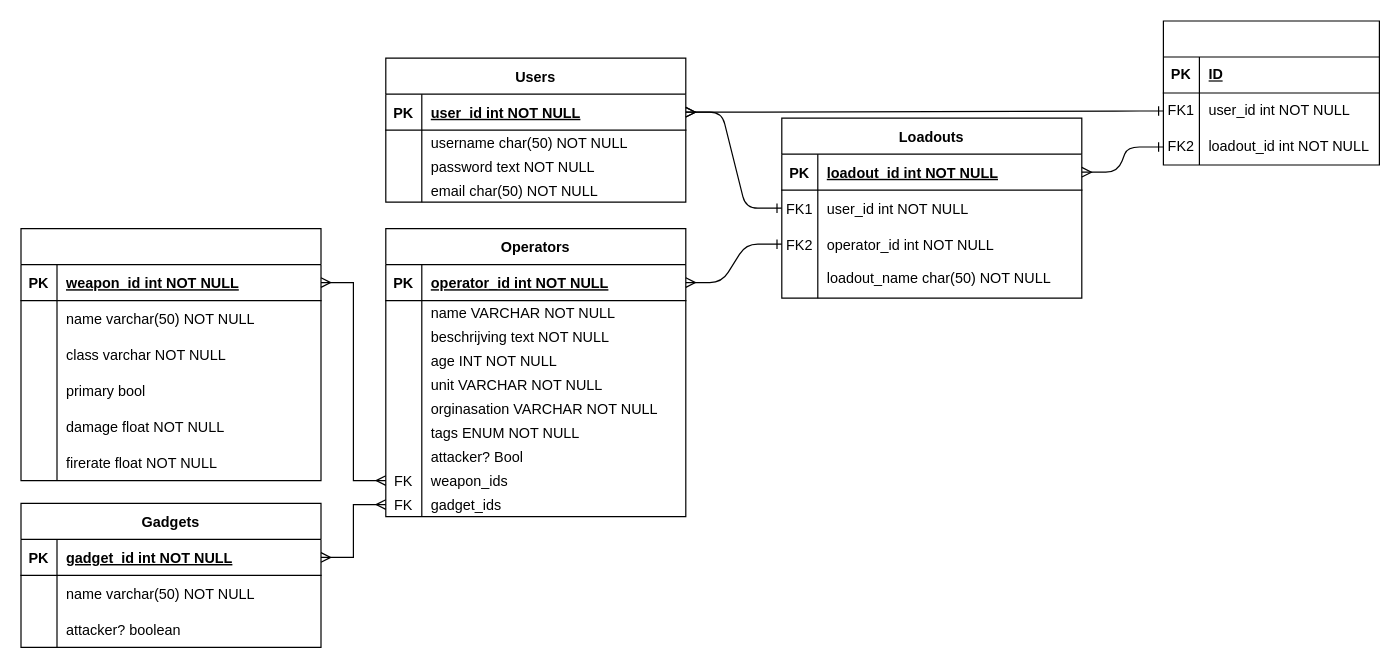
The diagram is 1400 pixels wide and 668 high, and some of its shapes have lost their labels. Each missing label, with the box of its shape:
Favorites: (1162, 20, 1379, 165)
Weapons: (20, 227, 321, 481)
